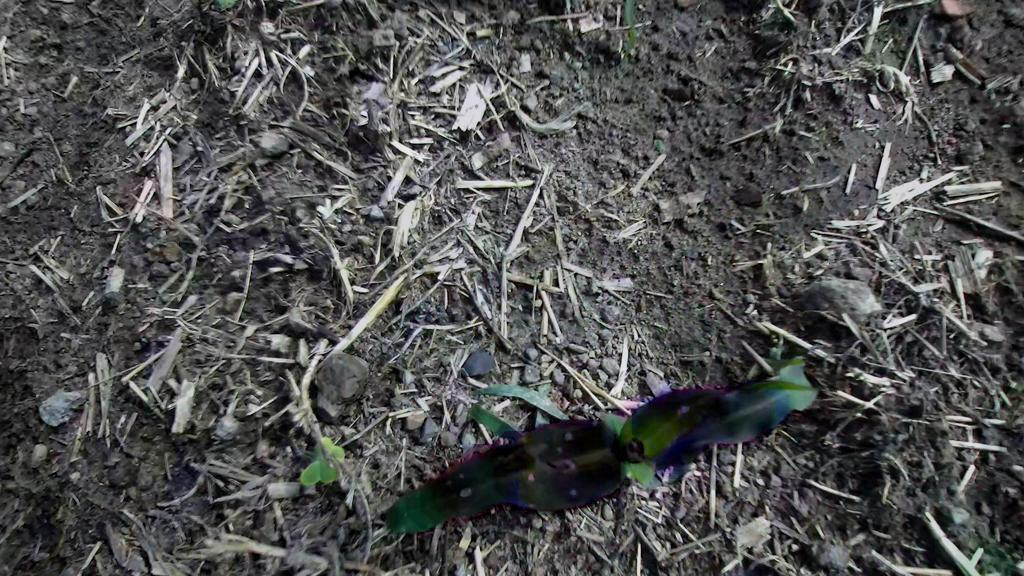BroWeed: (296, 432, 353, 497), (768, 333, 783, 360), (651, 136, 666, 156)
Maize: (366, 334, 831, 538)
